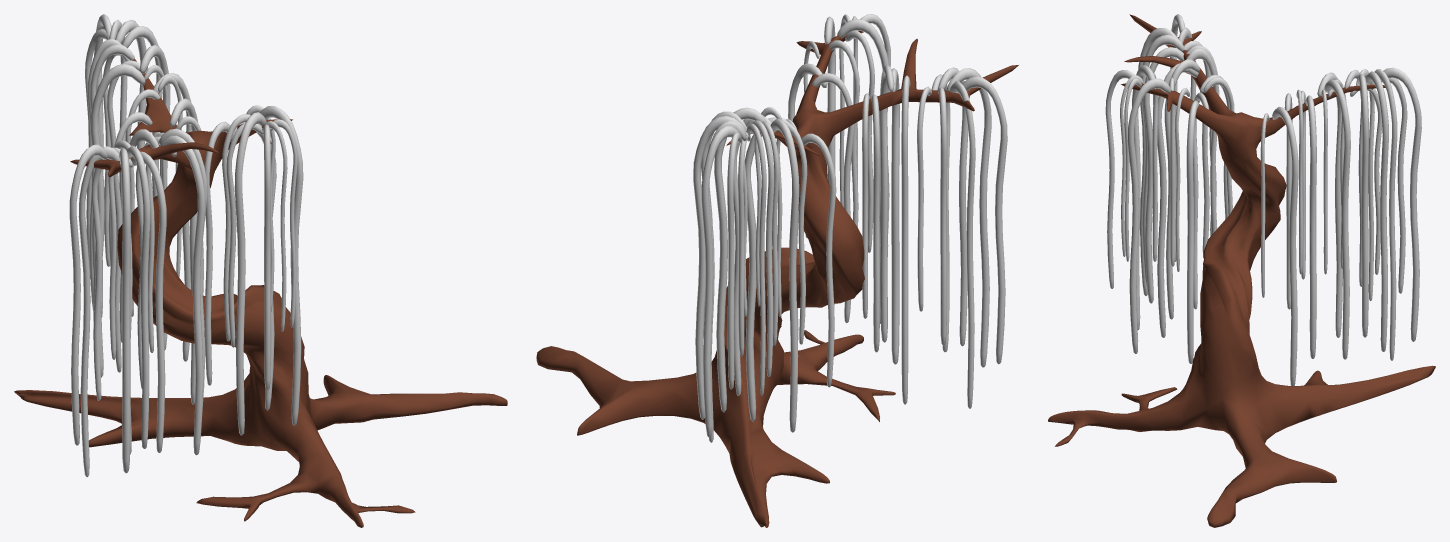
Rendered from Willow.FBX.
The picture shows the model from 3 angles, left to right: view 1: azimuth 30°, elevation 25°; view 2: azimuth 150°, elevation 25°; view 3: azimuth 270°, elevation 25°; orthographic projection. The views are drawn at different scales.
Parts seen in each view (by area): view 1: Cylinder001, Cylinder013, Cylinder014, Cylinder004, Cylinder029, Cylinder005, Cylinder027, Cylinder003, Cylinder028, Cylinder002, Cylinder006, Cylinder009 (+14 smaller); view 2: Cylinder001, Cylinder013, Cylinder014, Cylinder008, Cylinder016, Cylinder009, Cylinder004, Cylinder018, Cylinder026, Cylinder003, Cylinder005, Cylinder007 (+13 smaller); view 3: Cylinder001, Cylinder013, Cylinder014, Cylinder008, Cylinder006, Cylinder007, Cylinder016, Cylinder018, Cylinder012, Cylinder017, Cylinder011, Cylinder025 (+16 smaller).
Part boxes in pixels (bbox=[...]): Cylinder001: bbox=[14, 59, 507, 527]; Cylinder013: bbox=[85, 29, 270, 400]; Cylinder014: bbox=[103, 54, 263, 359]; Cylinder004: bbox=[118, 148, 130, 473]; Cylinder029: bbox=[234, 112, 266, 435]; Cylinder005: bbox=[160, 135, 205, 455]; Cylinder027: bbox=[78, 146, 121, 477]; Cylinder003: bbox=[69, 144, 107, 445]; Cylinder028: bbox=[132, 151, 166, 452]; Cylinder002: bbox=[126, 145, 150, 448]; Cylinder006: bbox=[260, 106, 303, 425]; Cylinder009: bbox=[90, 64, 145, 377]; Cylinder001: bbox=[536, 31, 1018, 527]; Cylinder013: bbox=[727, 14, 947, 389]; Cylinder014: bbox=[738, 30, 931, 356]; Cylinder008: bbox=[701, 125, 741, 437]; Cylinder016: bbox=[714, 107, 766, 412]; Cylinder009: bbox=[770, 118, 799, 432]; Cylinder004: bbox=[946, 68, 991, 367]; Cylinder018: bbox=[693, 116, 746, 419]; Cylinder026: bbox=[901, 75, 910, 404]; Cylinder003: bbox=[962, 76, 1007, 364]; Cylinder005: bbox=[888, 68, 899, 364]; Cylinder007: bbox=[745, 117, 792, 421]; Cylinder001: bbox=[1048, 14, 1435, 527]; Cylinder013: bbox=[1105, 40, 1407, 309]; Cylinder014: bbox=[1148, 45, 1382, 279]; Cylinder008: bbox=[1381, 67, 1421, 341]; Cylinder006: bbox=[1127, 78, 1171, 353]; Cylinder007: bbox=[1272, 106, 1298, 385]; Cylinder016: bbox=[1324, 79, 1350, 359]; Cylinder018: bbox=[1365, 71, 1388, 351]; Cylinder012: bbox=[1305, 95, 1316, 358]; Cylinder017: bbox=[1357, 73, 1368, 337]; Cylinder011: bbox=[1186, 100, 1198, 363]; Cylinder025: bbox=[1371, 69, 1397, 360].
Bounding box in the file's own units: 99.4 × 81.28 × 83.64.
